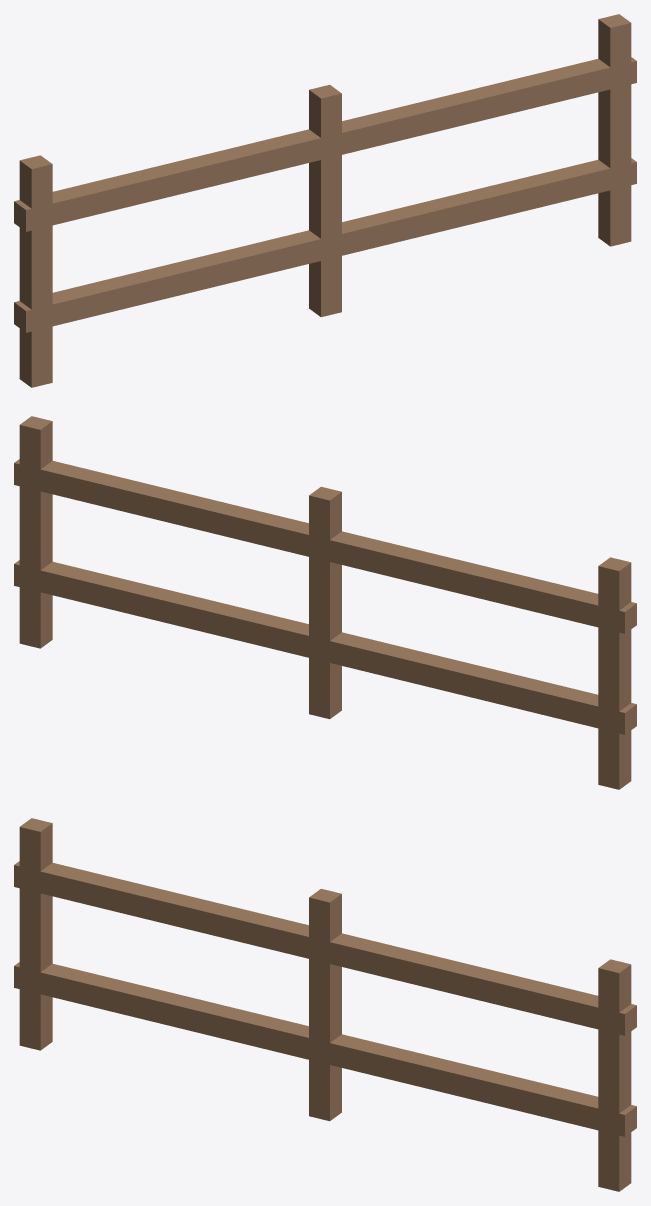
Rendered from farm-fence.glb.
3 views of the same model, one above another, from view 1: azimuth 30°, elevation 25°; view 2: azimuth 150°, elevation 25°; view 3: azimuth 330°, elevation 25° (orthographic).
Size of the model in its own units: 3.8 by 1.3 by 0.13.
